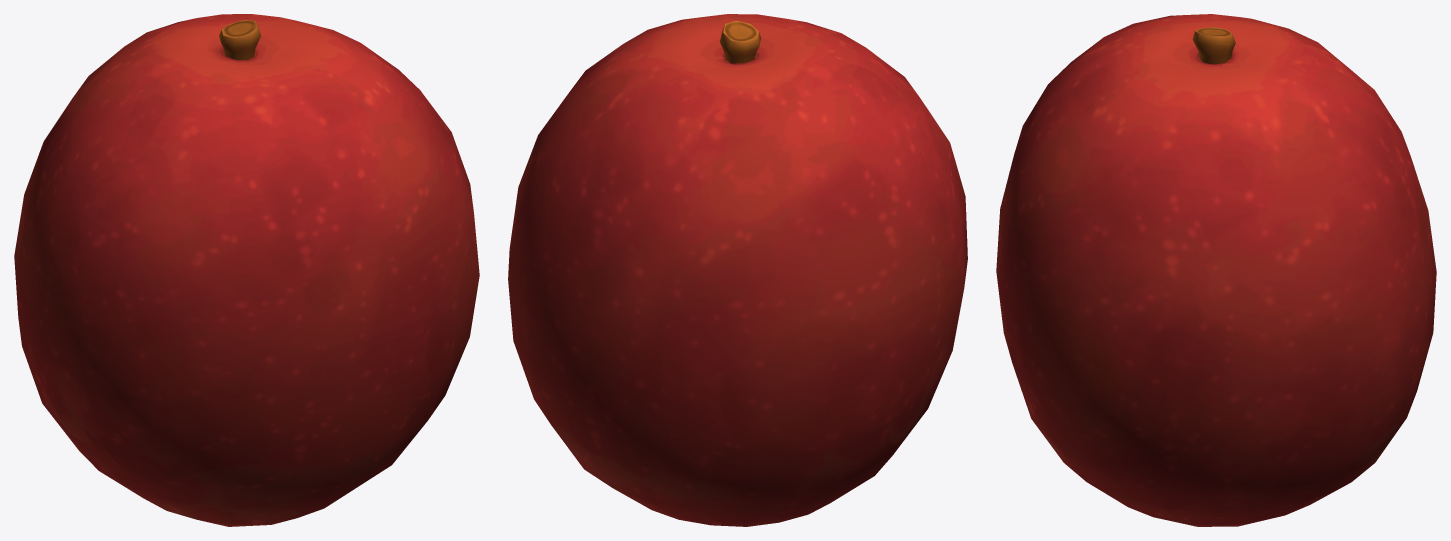
Rendered from SM_PassionFruitRed.fbx.
The picture shows the model from 3 angles, left to right: view 1: azimuth 30°, elevation 25°; view 2: azimuth 150°, elevation 25°; view 3: azimuth 270°, elevation 25°; orthographic projection.
Visible parts, largest first — view 1: SM_PassionFruitRed; view 2: SM_PassionFruitRed; view 3: SM_PassionFruitRed.
Boxes of the visible parts, x1,y1,x2,y2 form: SM_PassionFruitRed: (14,14,479,526); SM_PassionFruitRed: (508,14,967,526); SM_PassionFruitRed: (996,14,1436,526).
Size of the model in its own units: 10.5 by 11.91 by 9.94.
